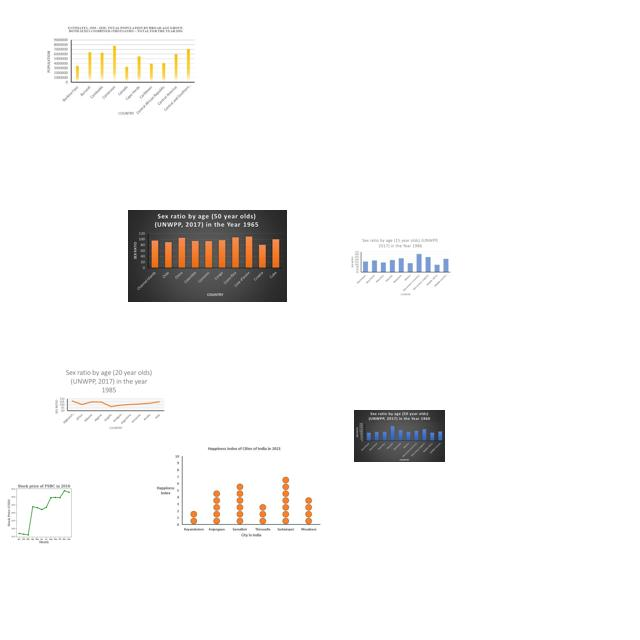Graph: (152, 444, 322, 542), (128, 210, 287, 302), (46, 25, 197, 116), (51, 366, 165, 431), (348, 236, 452, 297), (1, 481, 85, 544), (354, 410, 445, 462)
